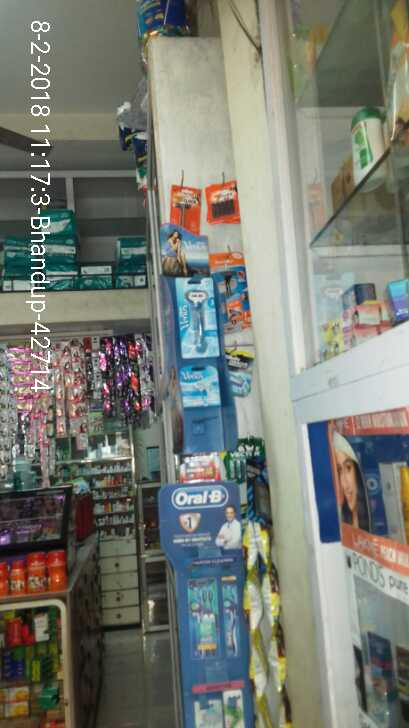beauty: (177, 277, 222, 362), (178, 365, 222, 407), (211, 255, 248, 303), (226, 348, 253, 401), (174, 186, 200, 236), (206, 182, 240, 218)
